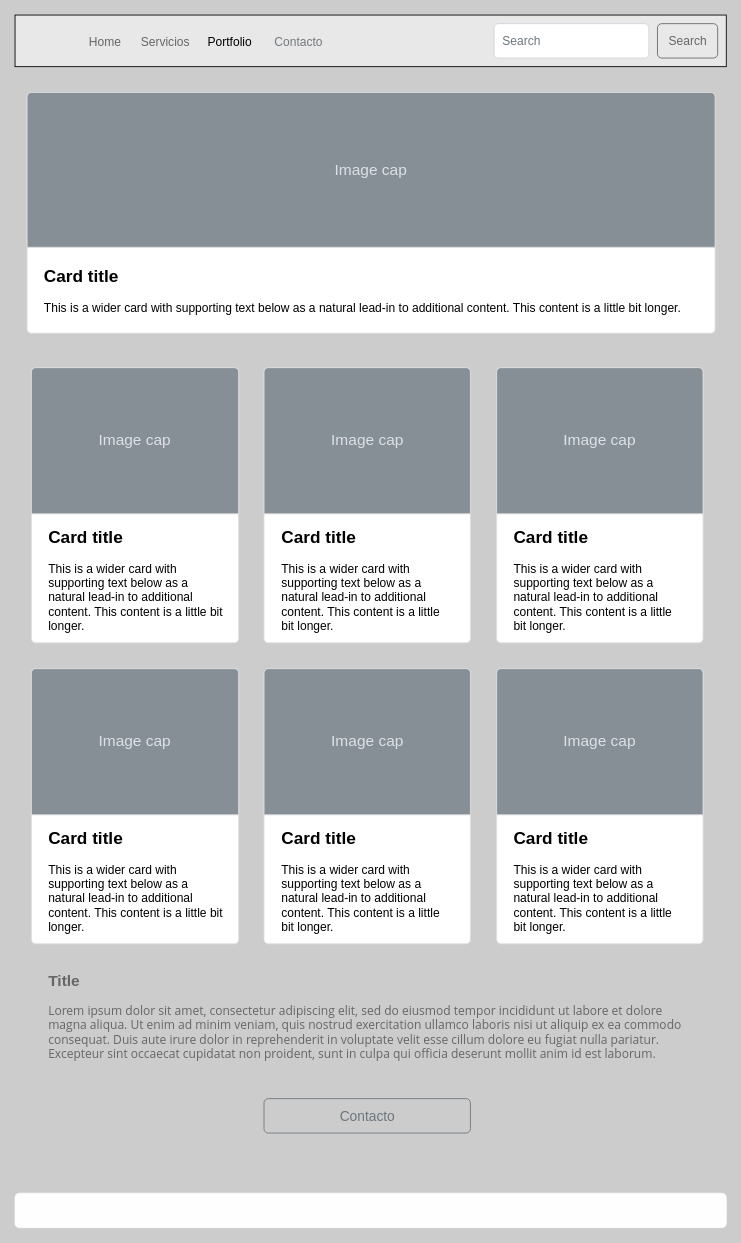
This 741x1243 diagram has some shape labels left out. The centre of each missing label's shape, as x and y in pixels:
Footer: point (370, 1210)
Logo: point (370, 40)
